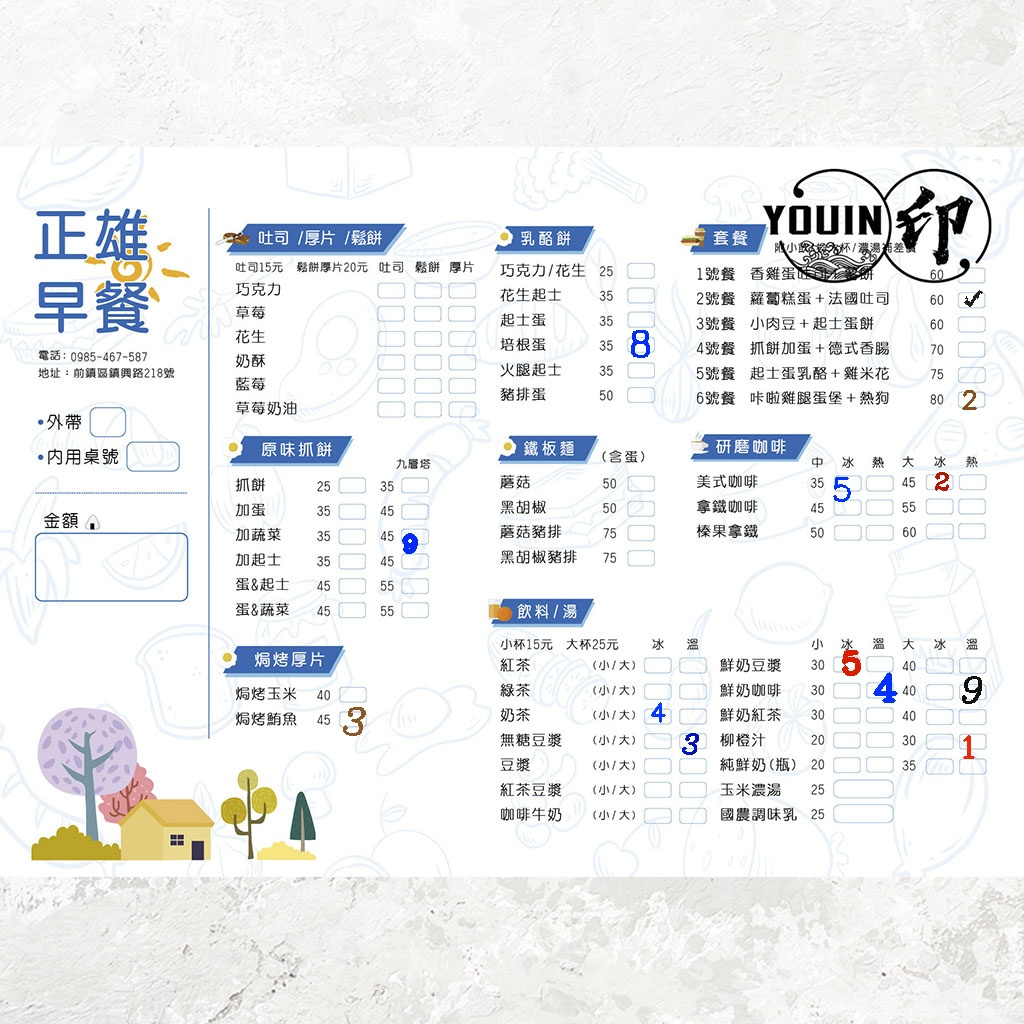marked_number_1: (957, 732, 983, 746)
marked_number_2: (958, 391, 984, 405), (925, 474, 951, 488)
marked_number_3: (338, 711, 364, 725), (679, 732, 705, 746)
marked_number_4: (644, 707, 670, 721), (869, 682, 895, 696)
marked_number_5: (834, 657, 860, 671), (833, 476, 859, 490)
marked_number_8: (627, 337, 653, 351)
marked_number_9: (401, 528, 427, 542), (960, 684, 986, 698)
marked_tick: (958, 293, 984, 307)
